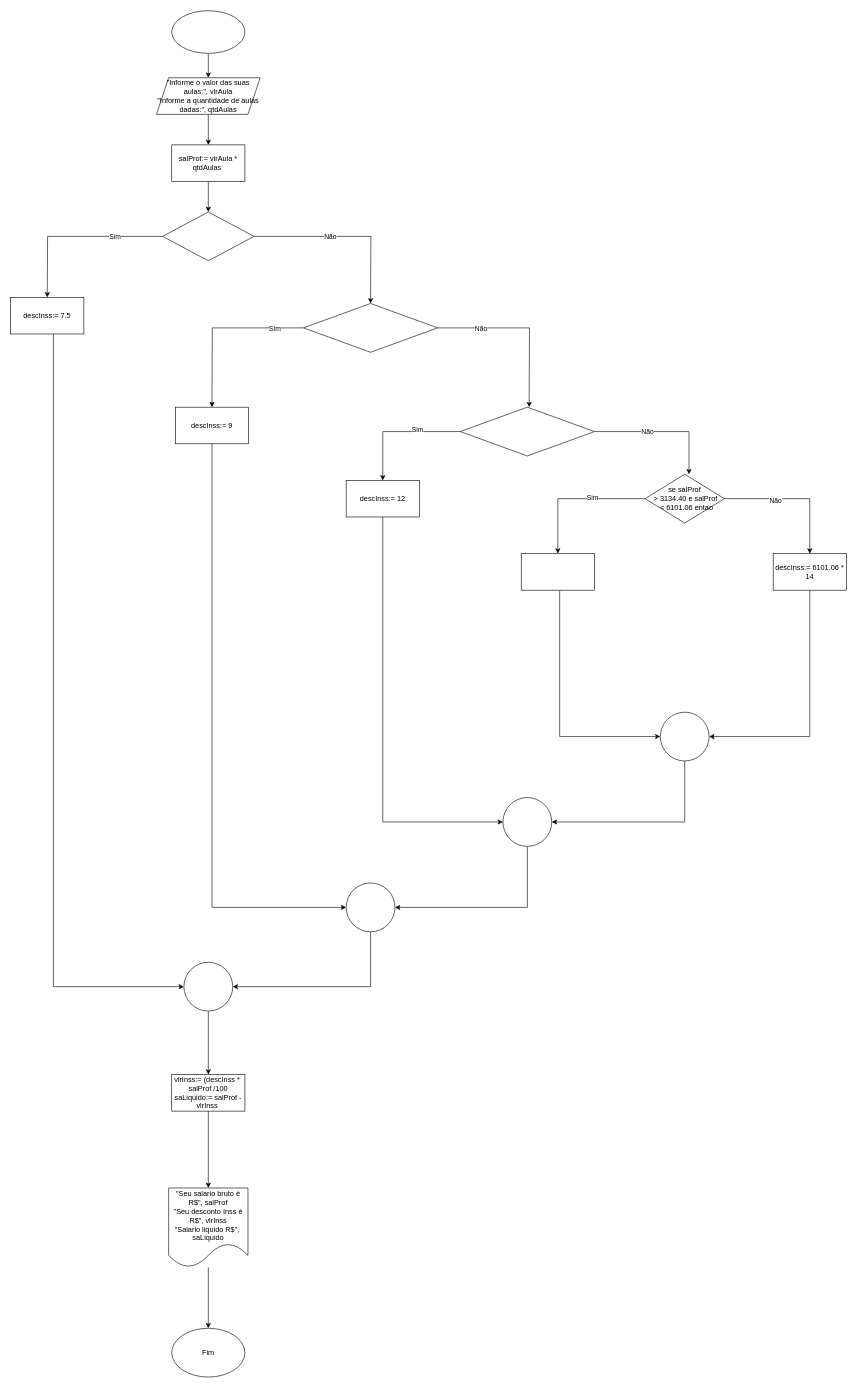
Image size: 857x1388. Some labels were removed from this diagram. The shapes that lost their labels are listed below. From the top down, each one's centre as x and y in pixels, then its label:
pixel 208 31: Inicio
pixel 208 236: se salProf <= 1045 entao
pixel 370 327: se salProf > 1045.01 e salProf < 2.089,60 entao
pixel 527 431: se salProf > 2089.61 e salProf < 3134.40 entao
pixel 557 571: descInss:= 14
